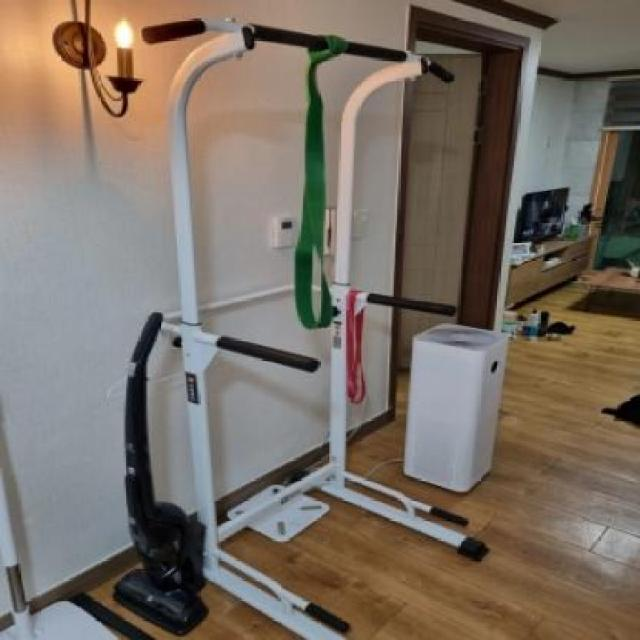chinning dipping: (142, 14, 458, 640)
